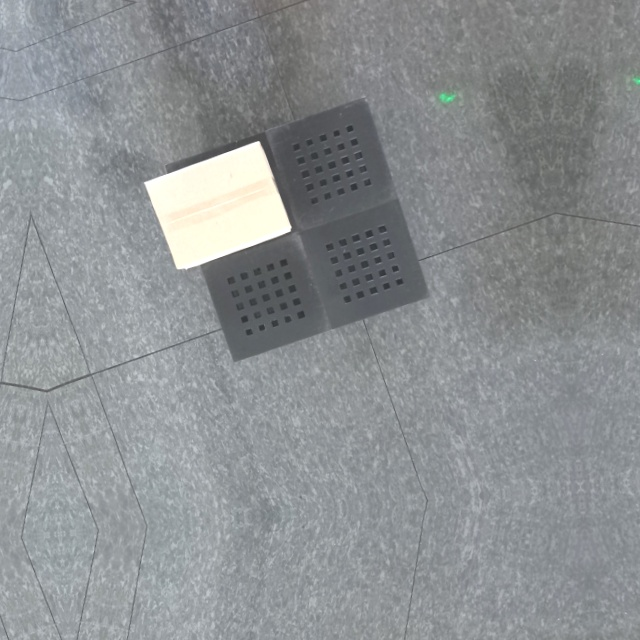box: (141, 137, 293, 273)
pallet: (155, 92, 432, 370)
